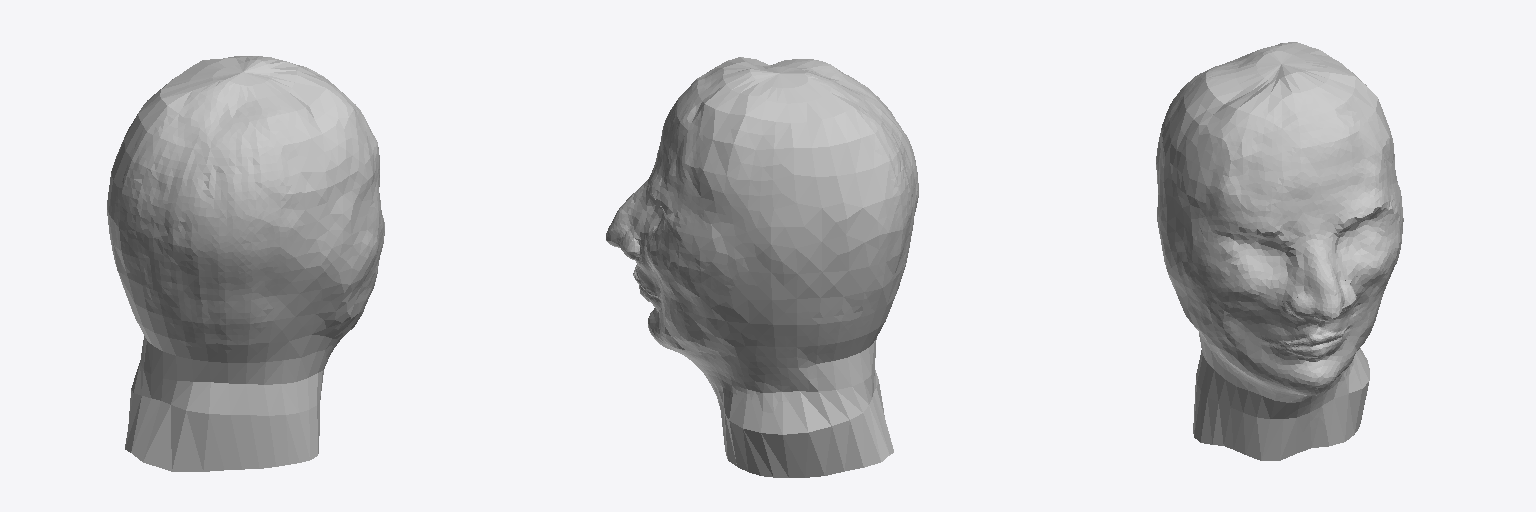
File: visage.obj
The picture shows the model from 3 angles: view 1: azimuth 30°, elevation 25°; view 2: azimuth 150°, elevation 25°; view 3: azimuth 270°, elevation 25°; orthographic projection.
Visible parts, largest first — view 1: Sphère; view 2: Sphère; view 3: Sphère.
Boxes of the visible parts, x1,y1,x2,y2 form: Sphère: [107, 56, 384, 471]; Sphère: [606, 57, 918, 477]; Sphère: [1156, 42, 1403, 460].
Bounding box in the file's own units: 2.53 × 3.35 × 2.